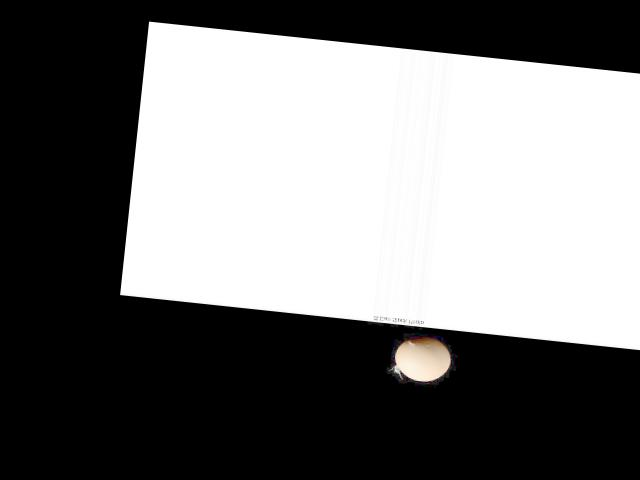egg: (393, 333, 453, 383)
